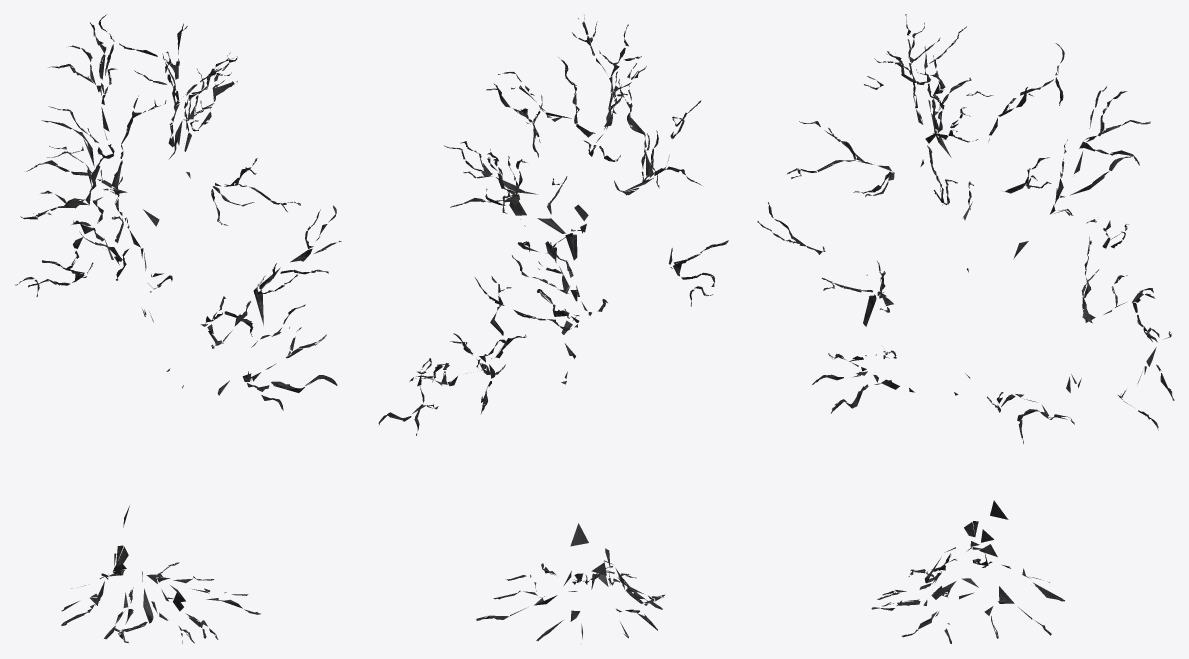
Rendered from dead_tree.glb.
The picture shows the model from 3 angles, left to right: view 1: azimuth 30°, elevation 25°; view 2: azimuth 150°, elevation 25°; view 3: azimuth 270°, elevation 25°; orthographic projection. The views are drawn at different scales.
Visible parts, largest first — view 1: Mesh_0; view 2: Mesh_0; view 3: Mesh_0.
Boxes of the visible parts, <box> form: Mesh_0: <box>15,14,341,643</box>; Mesh_0: <box>378,15,728,640</box>; Mesh_0: <box>757,14,1174,643</box>.
Bounding box in the file's own units: 0.5066 × 1 × 0.651.
1 material, 1 textured.
